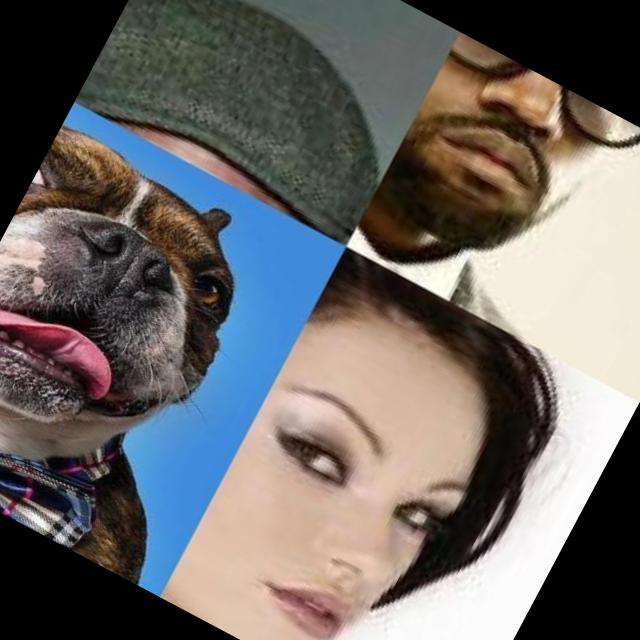bareface: (172, 288, 528, 640)
